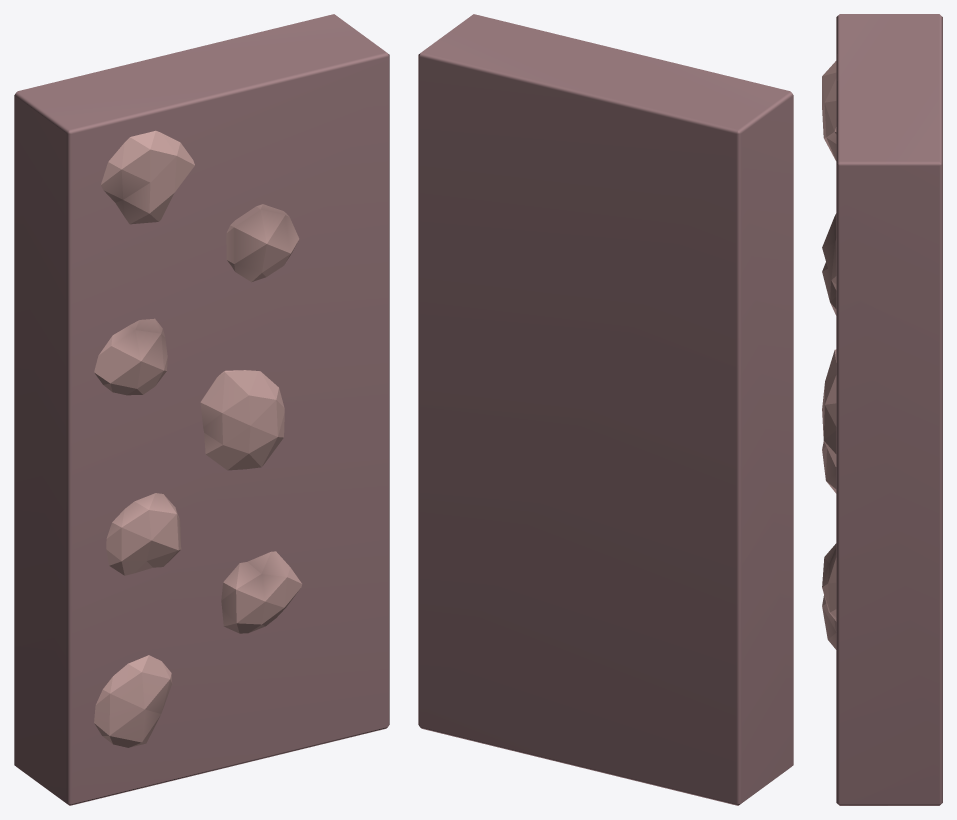
File: sinew-retaining.glb
The picture shows the model from 3 angles, left to right: view 1: azimuth 30°, elevation 25°; view 2: azimuth 150°, elevation 25°; view 3: azimuth 270°, elevation 25°; orthographic projection. The views are drawn at different scales.
Parts seen in each view (by area): view 1: body; view 2: body; view 3: body.
Boxes of the visible parts, x1,y1,x2,y2 form: body: (14, 14, 389, 805); body: (418, 14, 793, 805); body: (822, 14, 942, 805).
Size of what is drawn, in the model's own units: 1 by 2 by 0.3399.
